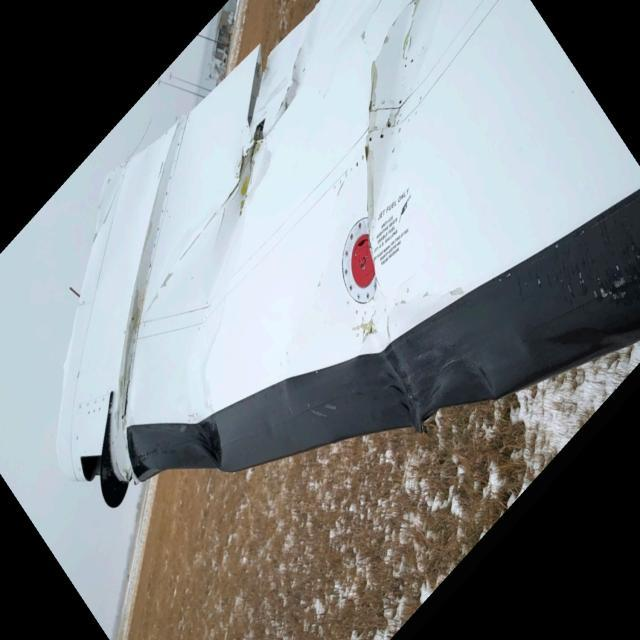crack: (231, 34, 304, 221), (365, 2, 422, 228)
